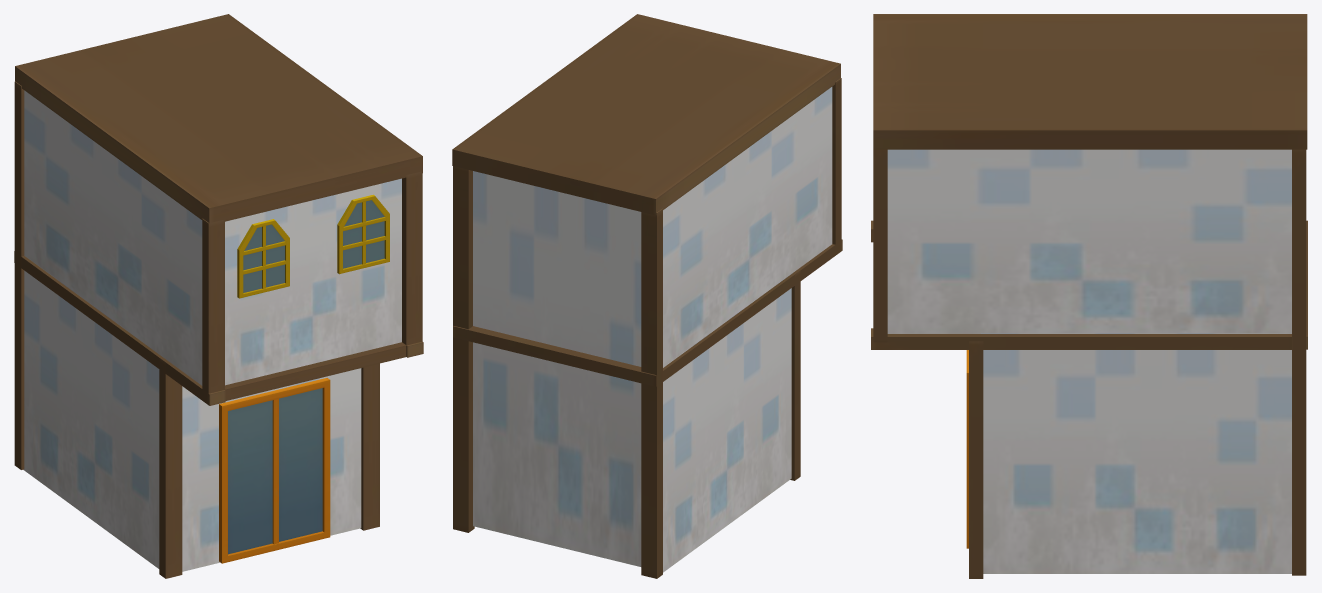
Rendered from nha_trang_nau.fbx.
3 views of the same model, side by side, from view 1: azimuth 30°, elevation 25°; view 2: azimuth 150°, elevation 25°; view 3: azimuth 270°, elevation 25° (orthographic). The views are drawn at different scales.
Visible parts, largest first — view 1: nha_trang_nau; view 2: nha_trang_nau; view 3: nha_trang_nau.
Boxes of the visible parts, x1,y1,x2,y2 form: nha_trang_nau: (14,14,423,578); nha_trang_nau: (452,14,842,578); nha_trang_nau: (871,14,1307,578).
Bounding box in the file's own units: 787 × 1409 × 1243.
